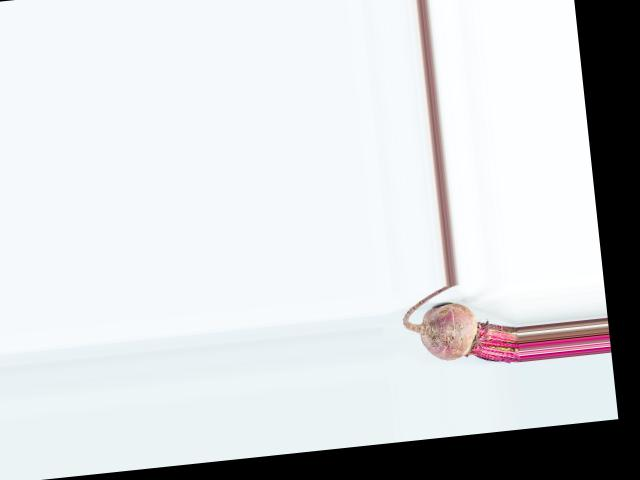beet: (400, 279, 522, 374)
